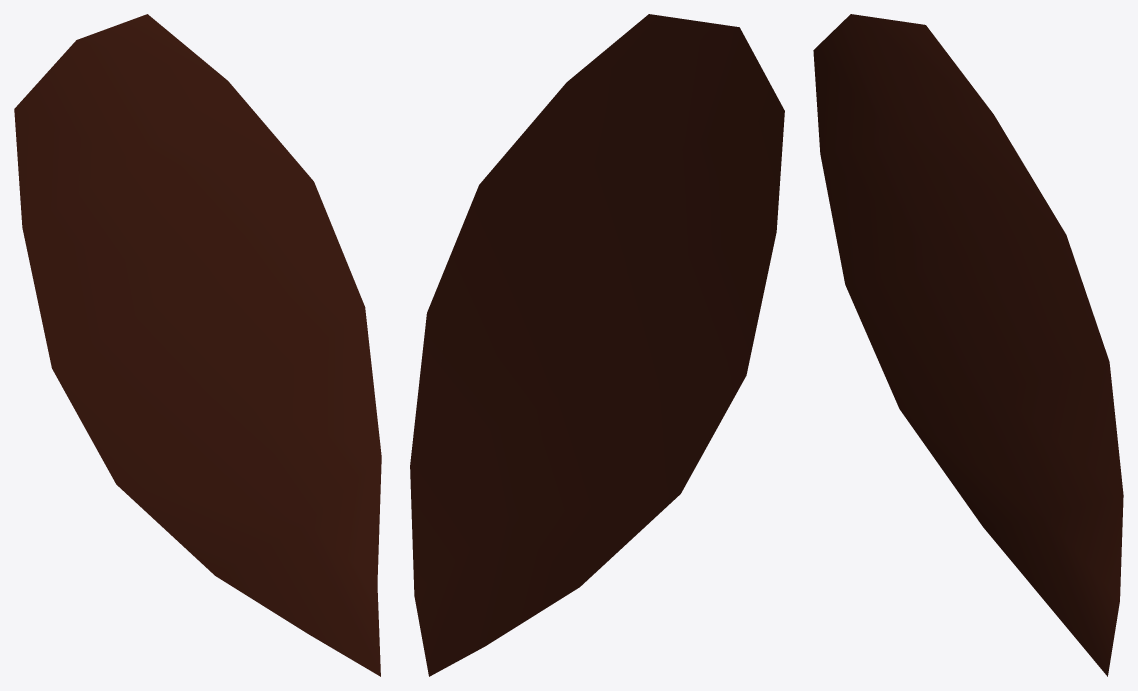
The model's file is rooster_feather_flight_tertiary_023.obj.
3 renders of one model, left to right at view 1: azimuth 30°, elevation 25°; view 2: azimuth 150°, elevation 25°; view 3: azimuth 330°, elevation 25°, orthographic. The views are drawn at different scales.
Visible parts, largest first — view 1: feather_flight_tertiary_023; view 2: feather_flight_tertiary_023; view 3: feather_flight_tertiary_023.
Boxes of the visible parts, x1,y1,x2,y2 form: feather_flight_tertiary_023: (14, 14, 381, 676); feather_flight_tertiary_023: (410, 14, 784, 676); feather_flight_tertiary_023: (813, 14, 1123, 676).
Bounding box in the file's own units: 0.0119 × 0.022 × 0.000502.
